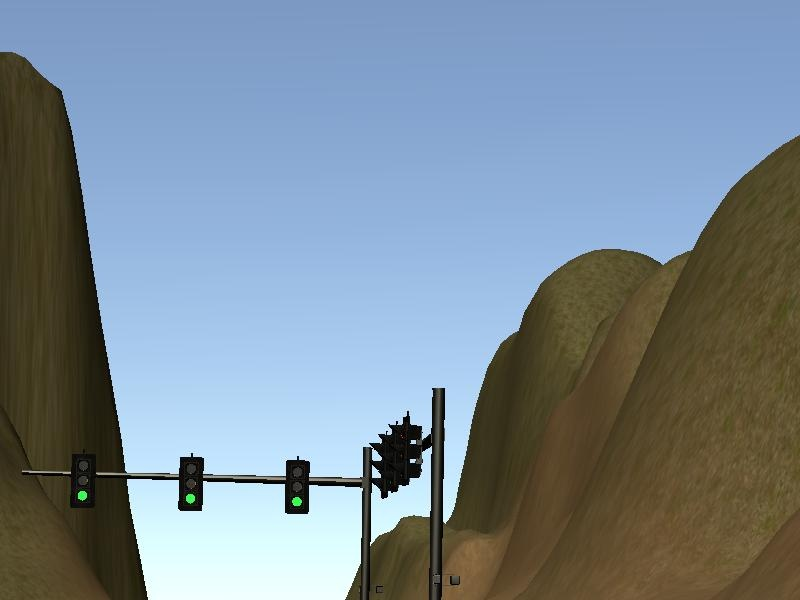GREEN: (69, 454, 94, 507), (177, 457, 202, 510), (283, 459, 308, 512)
